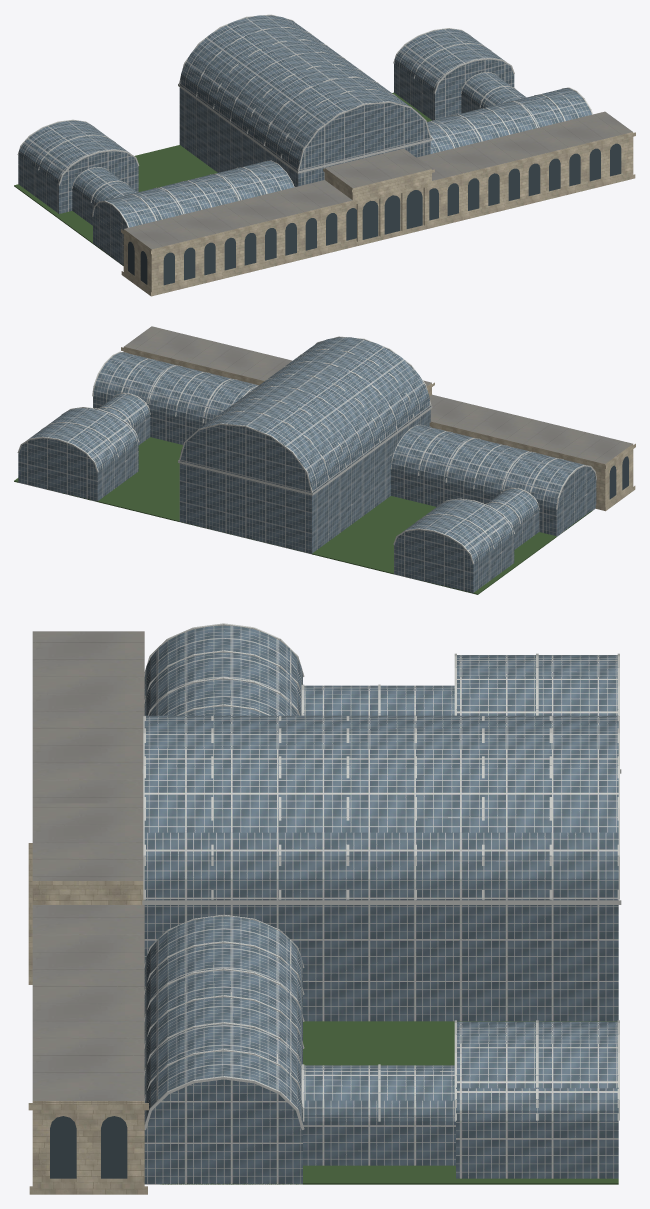
Rendered from usbg_conservatory.glb.
3 views of the same model, one above another, from view 1: azimuth 30°, elevation 25°; view 2: azimuth 150°, elevation 25°; view 3: azimuth 270°, elevation 25° (orthographic). The views are drawn at different scales.
Visible parts, largest first — view 1: usbg_conservatory; view 2: usbg_conservatory; view 3: usbg_conservatory.
Part boxes in pixels (left/top/right/bottom): usbg_conservatory: left=14, top=14, right=635, bottom=296; usbg_conservatory: left=14, top=326, right=635, bottom=594; usbg_conservatory: left=28, top=623, right=621, bottom=1194.
Bounding box in the file's own units: 110 × 24.39 × 58.2.
4 materials, 4 textured.
